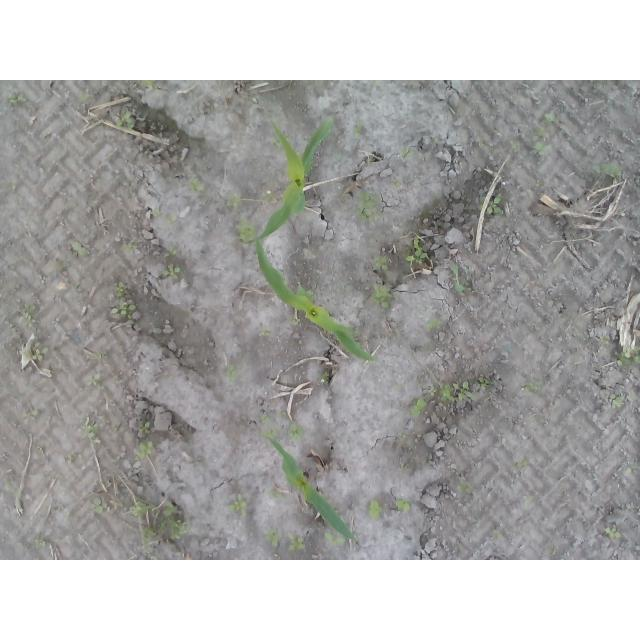Maize: (255, 235, 378, 361), (252, 117, 335, 244), (265, 431, 356, 541)
Weeds: (128, 495, 191, 553), (449, 263, 481, 295), (79, 414, 110, 441), (528, 128, 553, 161), (19, 339, 49, 362), (439, 382, 475, 401), (357, 191, 379, 222), (404, 240, 429, 265), (224, 494, 249, 518), (133, 439, 159, 461), (369, 284, 392, 308), (116, 111, 145, 130), (110, 302, 136, 320), (593, 163, 624, 178), (16, 303, 33, 329), (408, 398, 429, 419), (260, 415, 280, 437), (617, 347, 640, 366), (160, 264, 185, 281), (367, 497, 383, 521), (287, 532, 306, 552), (112, 241, 137, 256), (487, 196, 505, 216), (239, 224, 257, 244), (72, 240, 93, 257), (325, 531, 348, 546), (286, 423, 305, 441), (393, 496, 413, 513), (113, 281, 128, 303), (264, 527, 281, 546), (455, 480, 473, 497), (424, 319, 444, 334), (96, 496, 113, 513), (374, 256, 391, 273), (192, 176, 209, 193), (544, 110, 561, 126), (79, 88, 96, 104), (86, 368, 102, 385), (3, 478, 18, 496), (608, 394, 626, 409), (226, 191, 241, 209), (520, 383, 544, 394), (604, 527, 624, 540), (7, 94, 27, 107), (400, 144, 416, 160), (32, 536, 50, 550), (223, 366, 239, 381), (271, 134, 289, 147), (135, 80, 158, 90), (479, 377, 494, 392), (600, 334, 611, 354), (522, 495, 534, 513), (352, 119, 364, 137), (270, 491, 289, 502), (260, 190, 277, 202), (399, 431, 410, 449), (512, 457, 528, 469), (425, 384, 437, 399), (318, 371, 330, 385), (163, 245, 177, 257), (20, 408, 41, 416), (257, 326, 271, 338), (547, 544, 559, 556), (238, 207, 246, 225), (138, 420, 150, 432), (288, 316, 301, 327), (510, 140, 521, 153), (626, 463, 640, 473), (67, 450, 78, 462), (7, 179, 18, 191), (167, 212, 177, 224), (431, 135, 442, 145), (391, 179, 401, 188), (536, 180, 545, 189), (152, 208, 161, 217), (277, 410, 288, 416), (480, 198, 485, 208), (363, 335, 368, 341)
